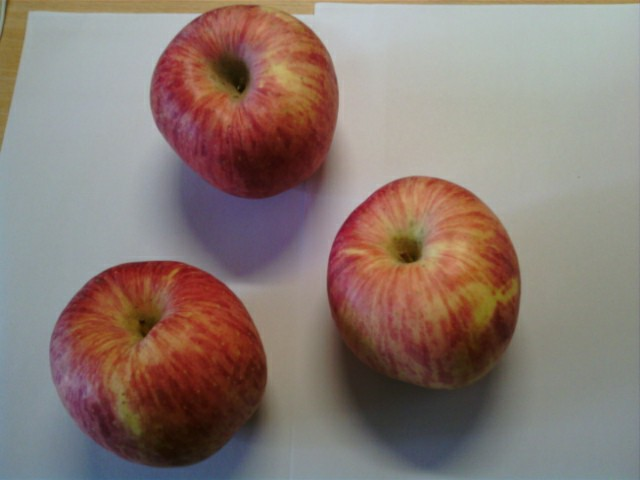normal_apple: (50, 259, 268, 469), (325, 173, 524, 396), (150, 4, 338, 199)
